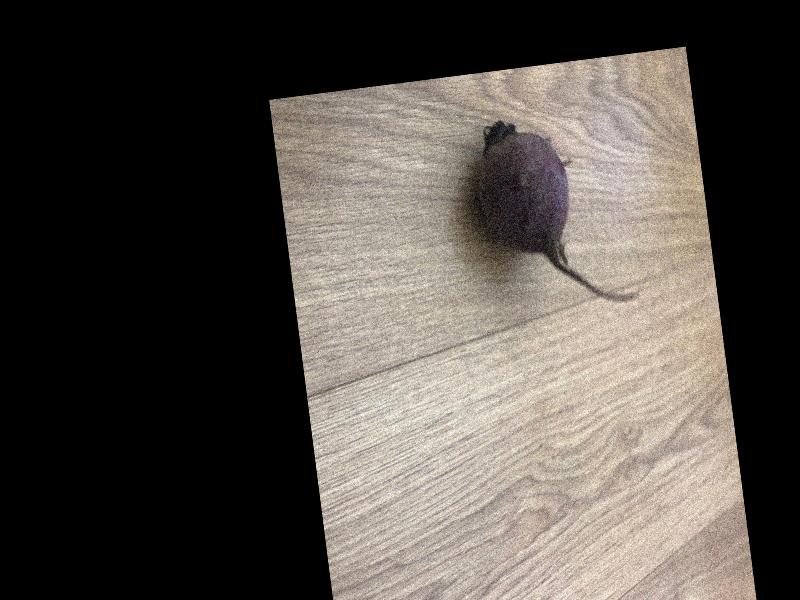Beet: (469, 109, 639, 321)
